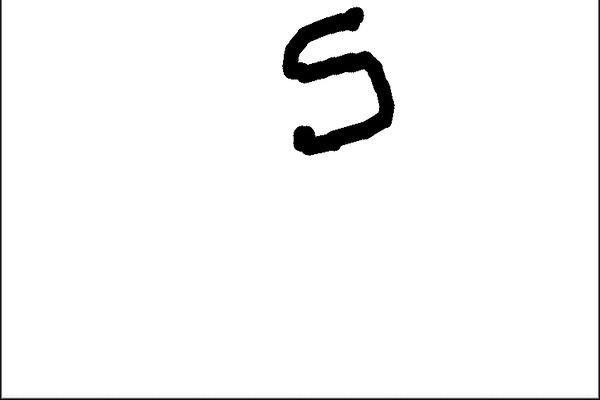S: (271, 0, 394, 161)
